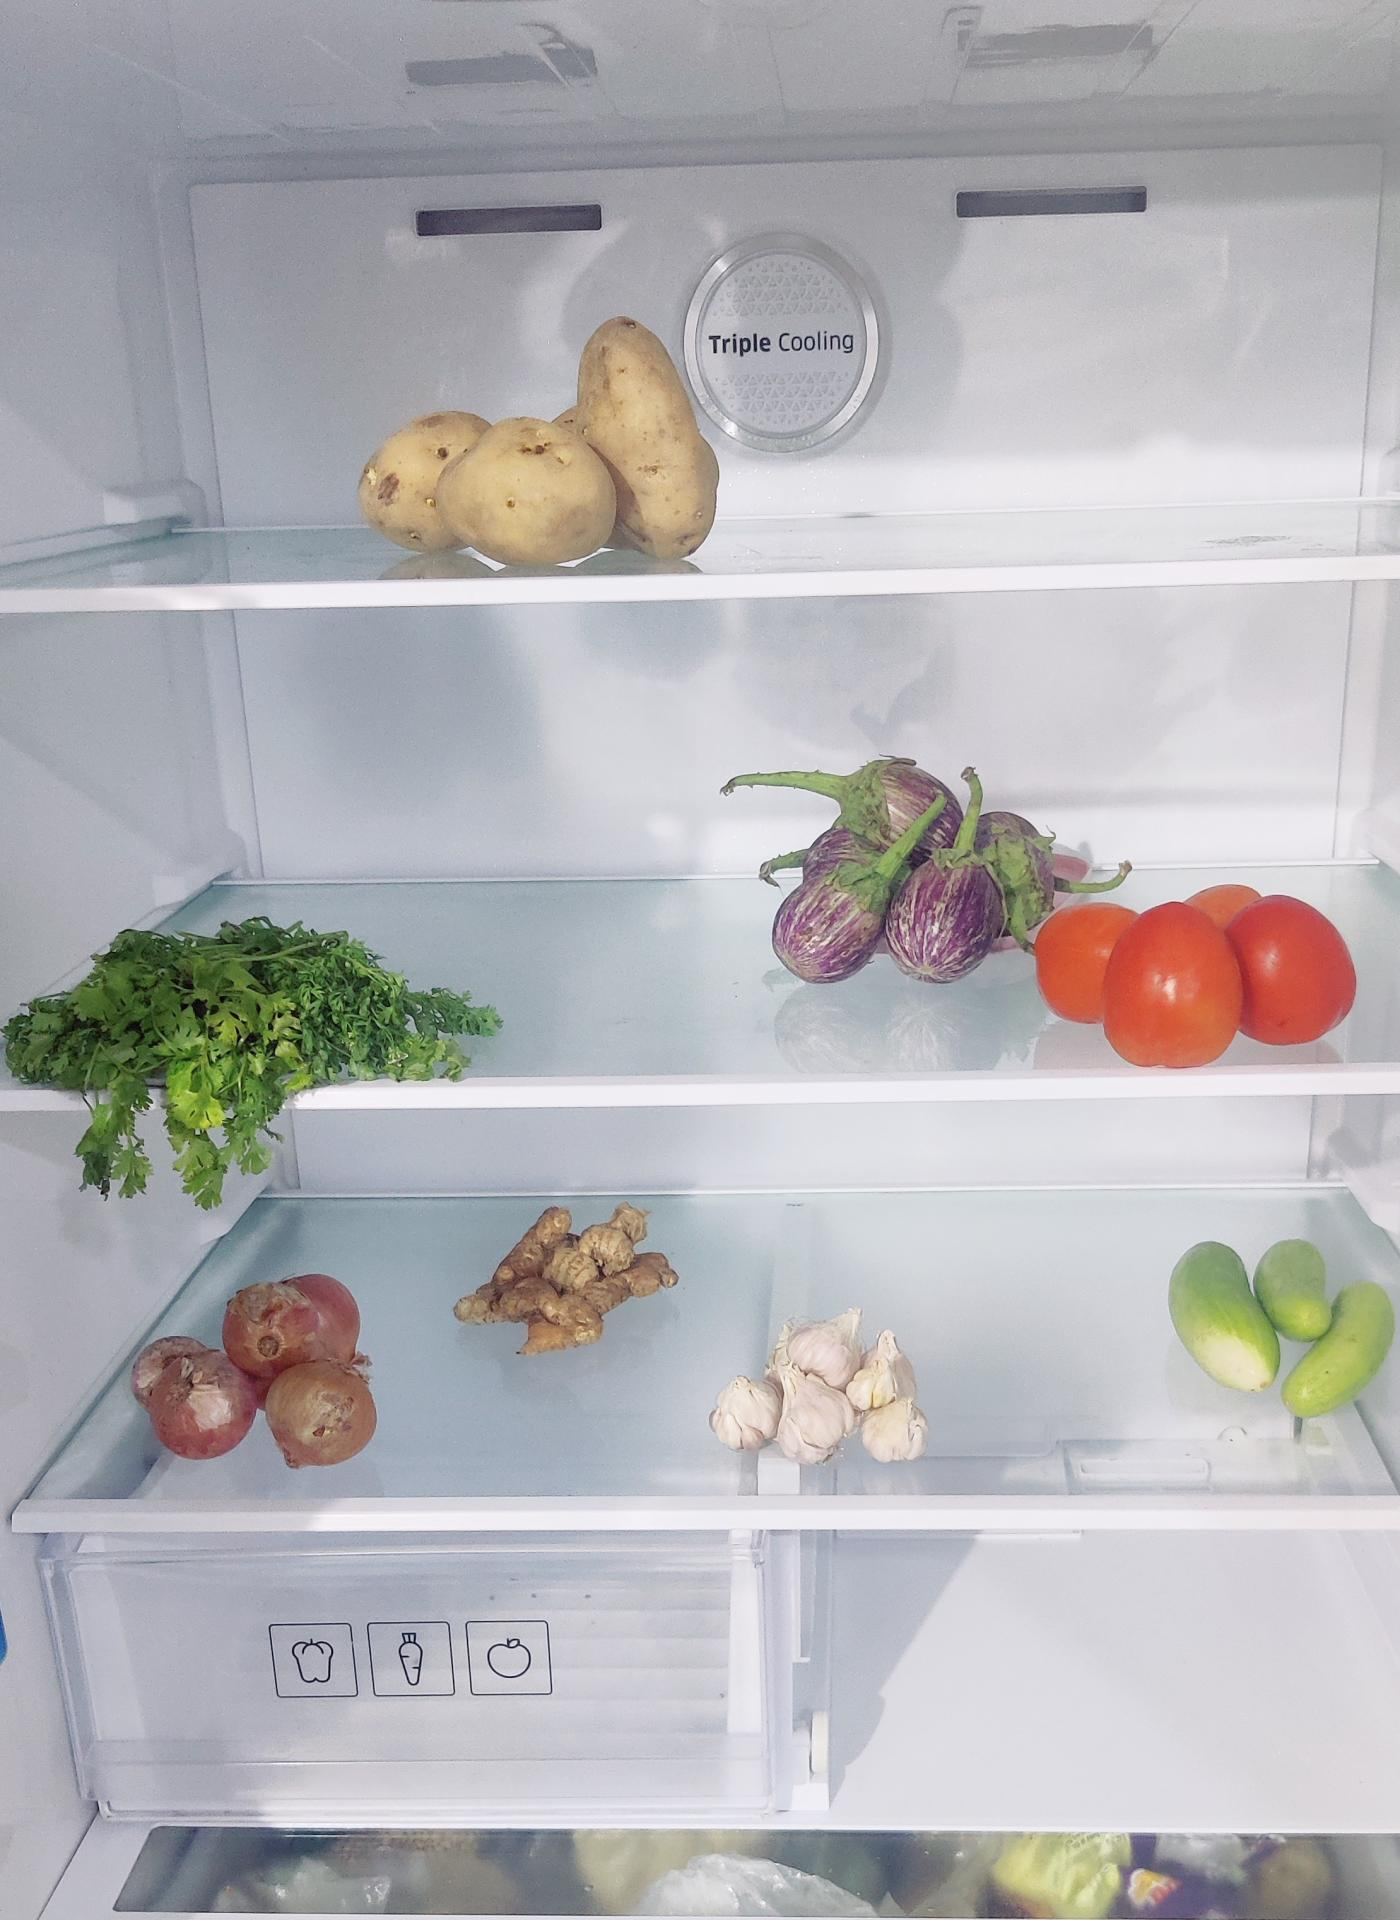brinjal: (747, 748, 1079, 982)
coriander: (12, 926, 491, 1130)
cucumber: (1164, 1231, 1396, 1419)
garlic: (711, 1309, 926, 1471)
ginger: (458, 1204, 681, 1355)
onion: (134, 1261, 373, 1473)
potato: (359, 316, 723, 562)
tomato: (1042, 875, 1372, 1063)
